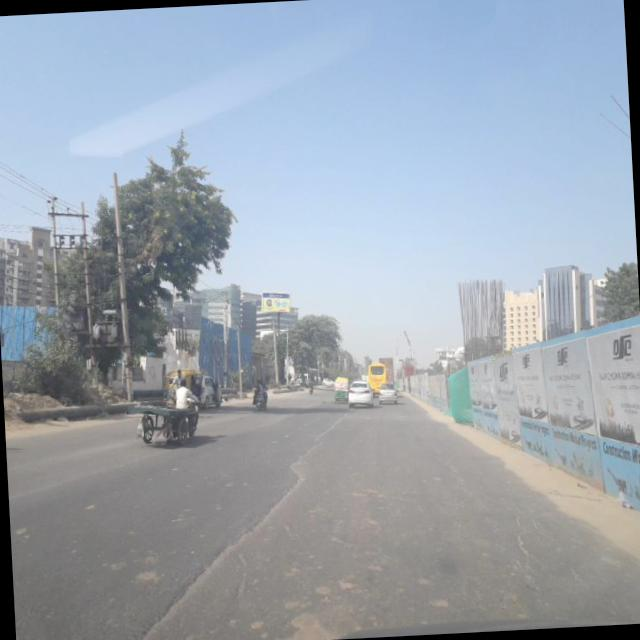pothole: (141, 422, 342, 616), (510, 493, 544, 578)
